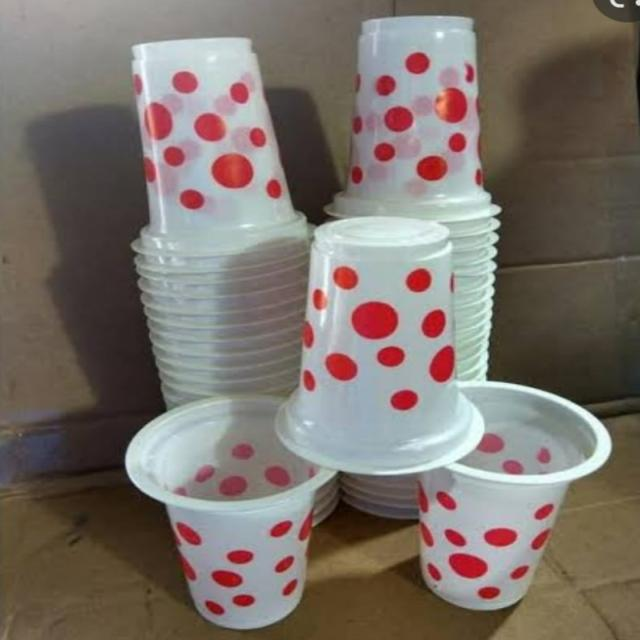GelasPlastik: (128, 35, 314, 411), (300, 212, 493, 476), (124, 394, 332, 626), (408, 377, 609, 614), (352, 19, 505, 223)
